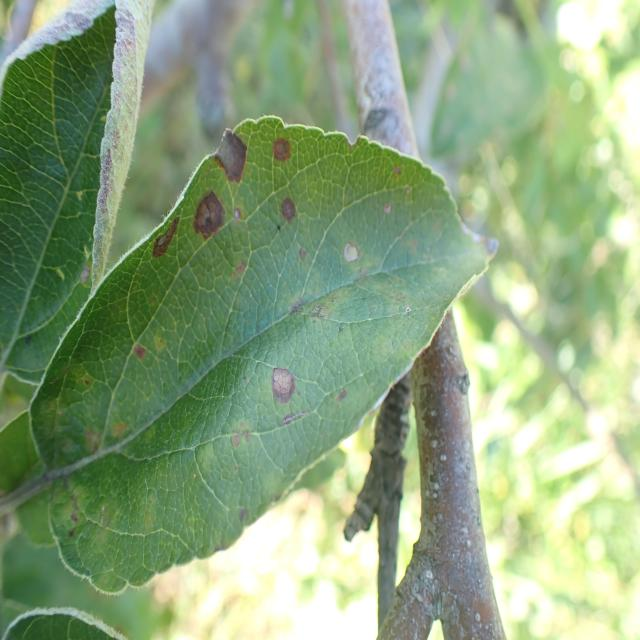frog-eye-leaf-spot: (30, 113, 493, 598)
